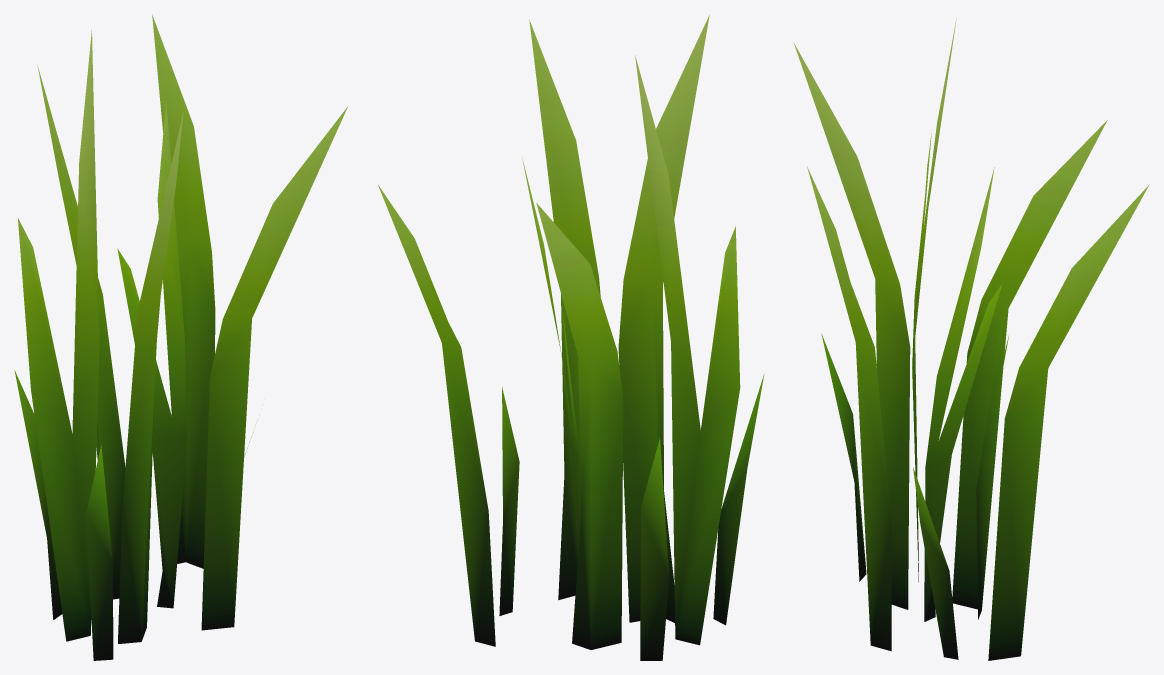
File: Grass_Common_Short.gltf
3 renders of one model, left to right at view 1: azimuth 30°, elevation 25°; view 2: azimuth 150°, elevation 25°; view 3: azimuth 270°, elevation 25°, orthographic. The views are drawn at different scales.
Visible parts, largest first — view 1: Grass_Common_Short; view 2: Grass_Common_Short; view 3: Grass_Common_Short.
Part boxes in pixels (x1=…): Grass_Common_Short: x1=14, y1=14, x2=347, y2=660; Grass_Common_Short: x1=378, y1=15, x2=764, y2=660; Grass_Common_Short: x1=793, y1=18, x2=1149, y2=660.
Bounding box in the file's own units: 0.6318 × 1.33 × 0.7373.
Materials: 1 (1 with a texture image).
